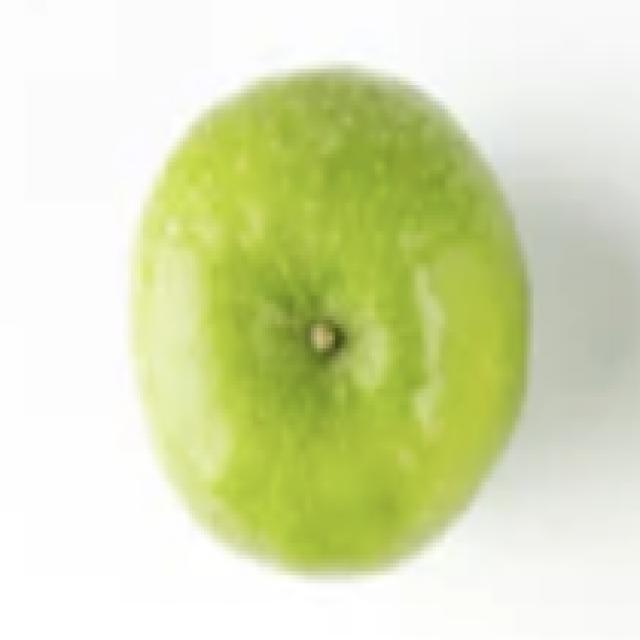Fresh Apple: (140, 66, 518, 556)
